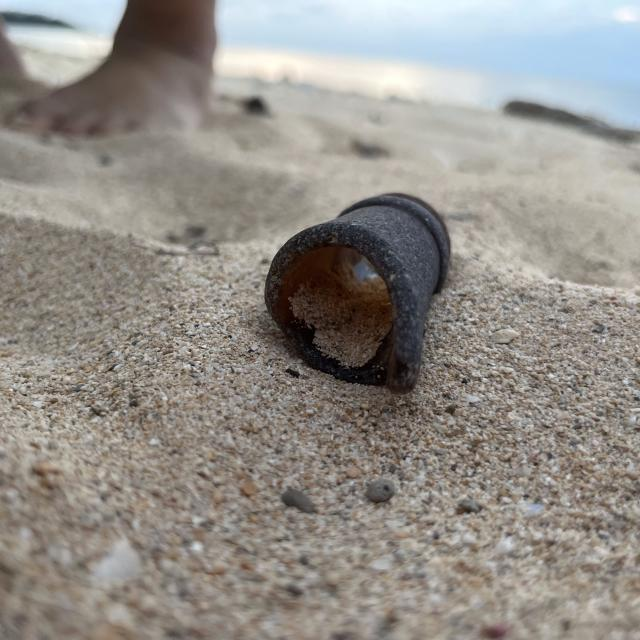feet: (8, 20, 228, 137)
trash: (262, 190, 464, 406)
